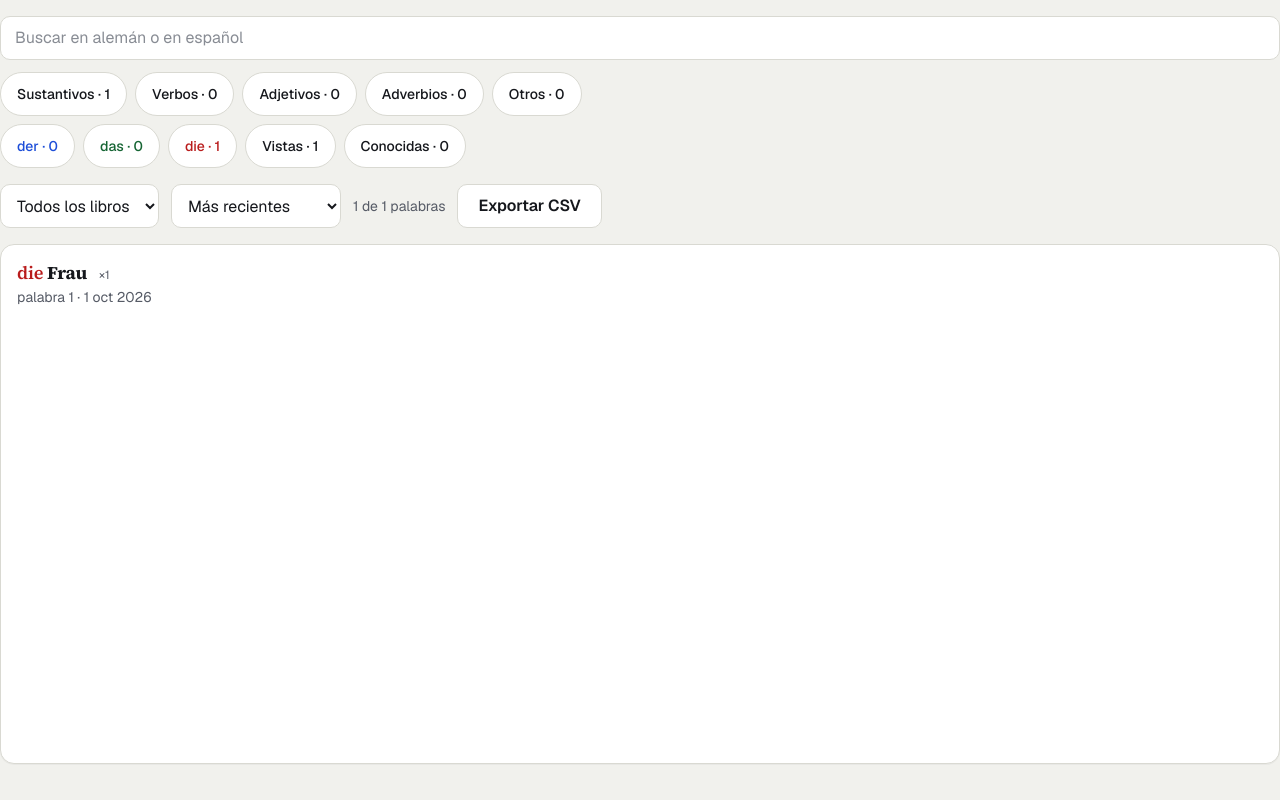
DictionaryView (RF-30, RF-31, RF-29) › si falla el guardado avisa y no cambia el estado
Click the button "die Frau ×1 palabra 1 · 1 oct 2026".
click(67, 272)  # box [1,245,1279,321]
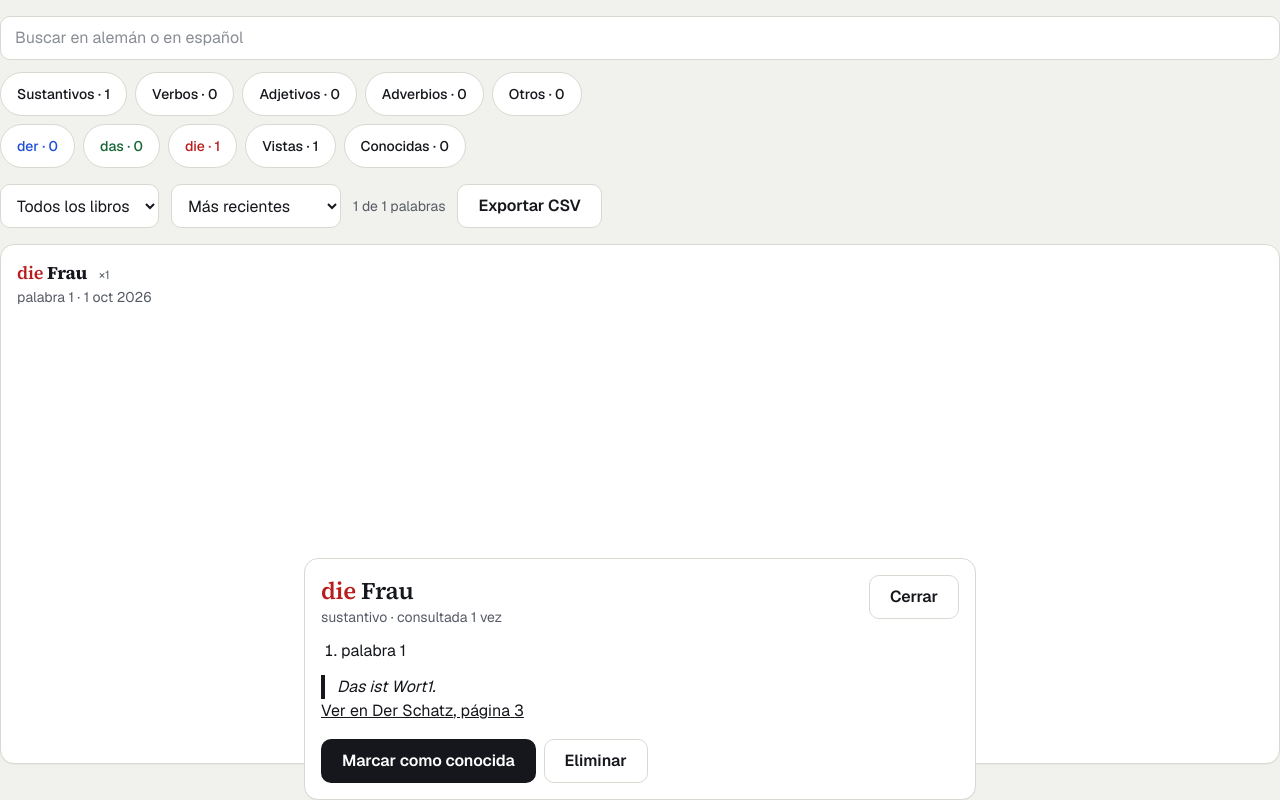
Click the button "Marcar como conocida".
click(428, 761)  # box [321,739,536,783]
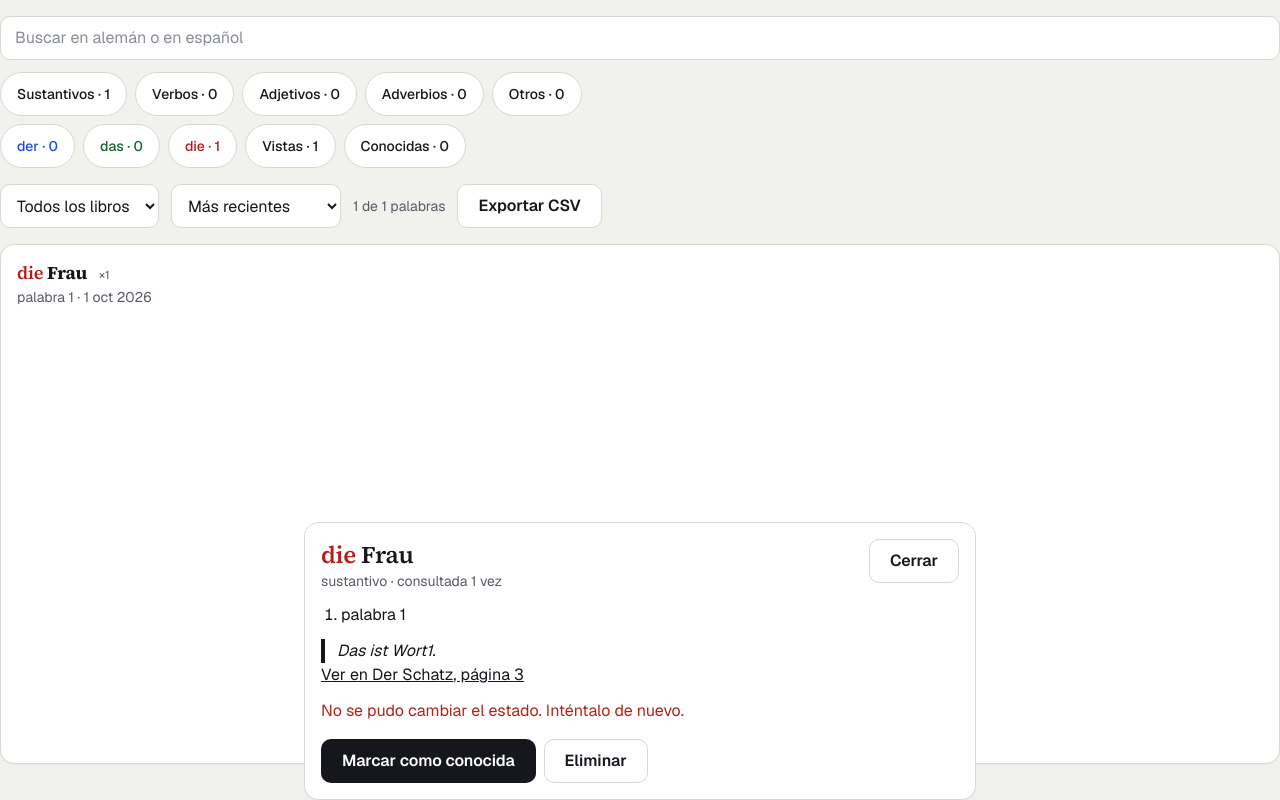
Now the button "Marcar como conocida" is shown, box [321,739,536,783]
Now the message shows "No se pudo cambiar el estado", box [321,700,684,721]
